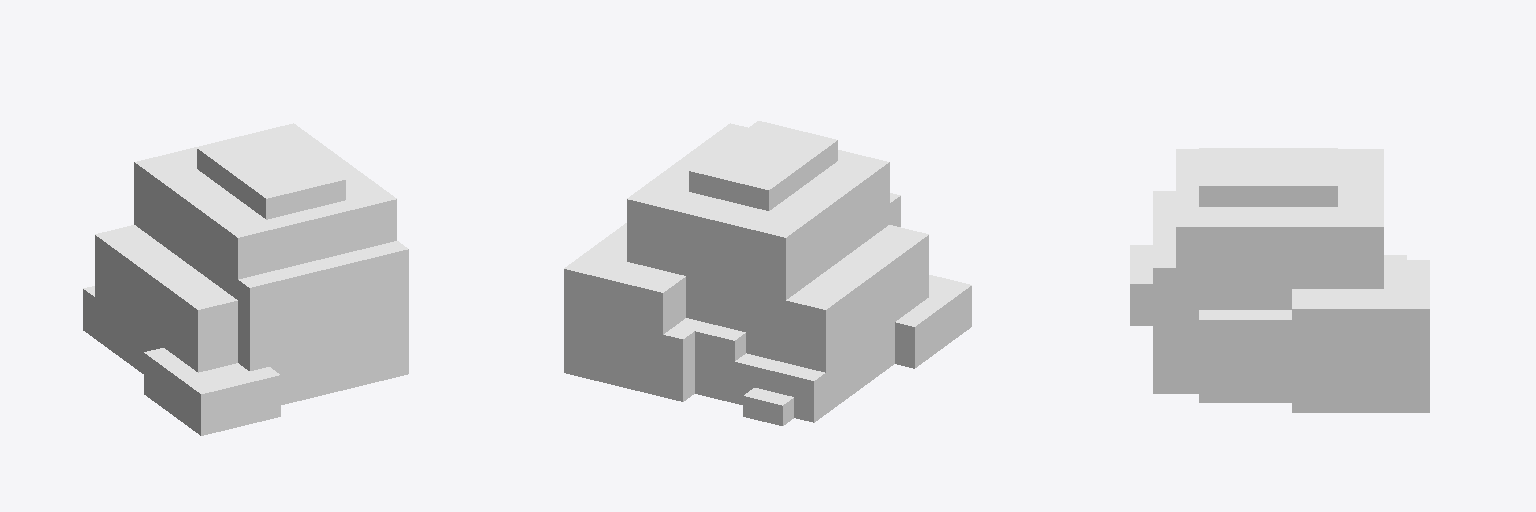
The model's file is resource-1.obj.
3 renders of one model, left to right at view 1: azimuth 30°, elevation 25°; view 2: azimuth 150°, elevation 25°; view 3: azimuth 270°, elevation 25°, orthographic.
Visible parts, largest first — view 1: object 1; view 2: object 1; view 3: object 1.
Boxes of the visible parts, x1,y1,x2,y2 form: object 1: [83, 123, 408, 435]; object 1: [564, 121, 971, 425]; object 1: [1130, 148, 1429, 412].
Size of the model in its own units: 1.3 by 0.9 by 1.3.